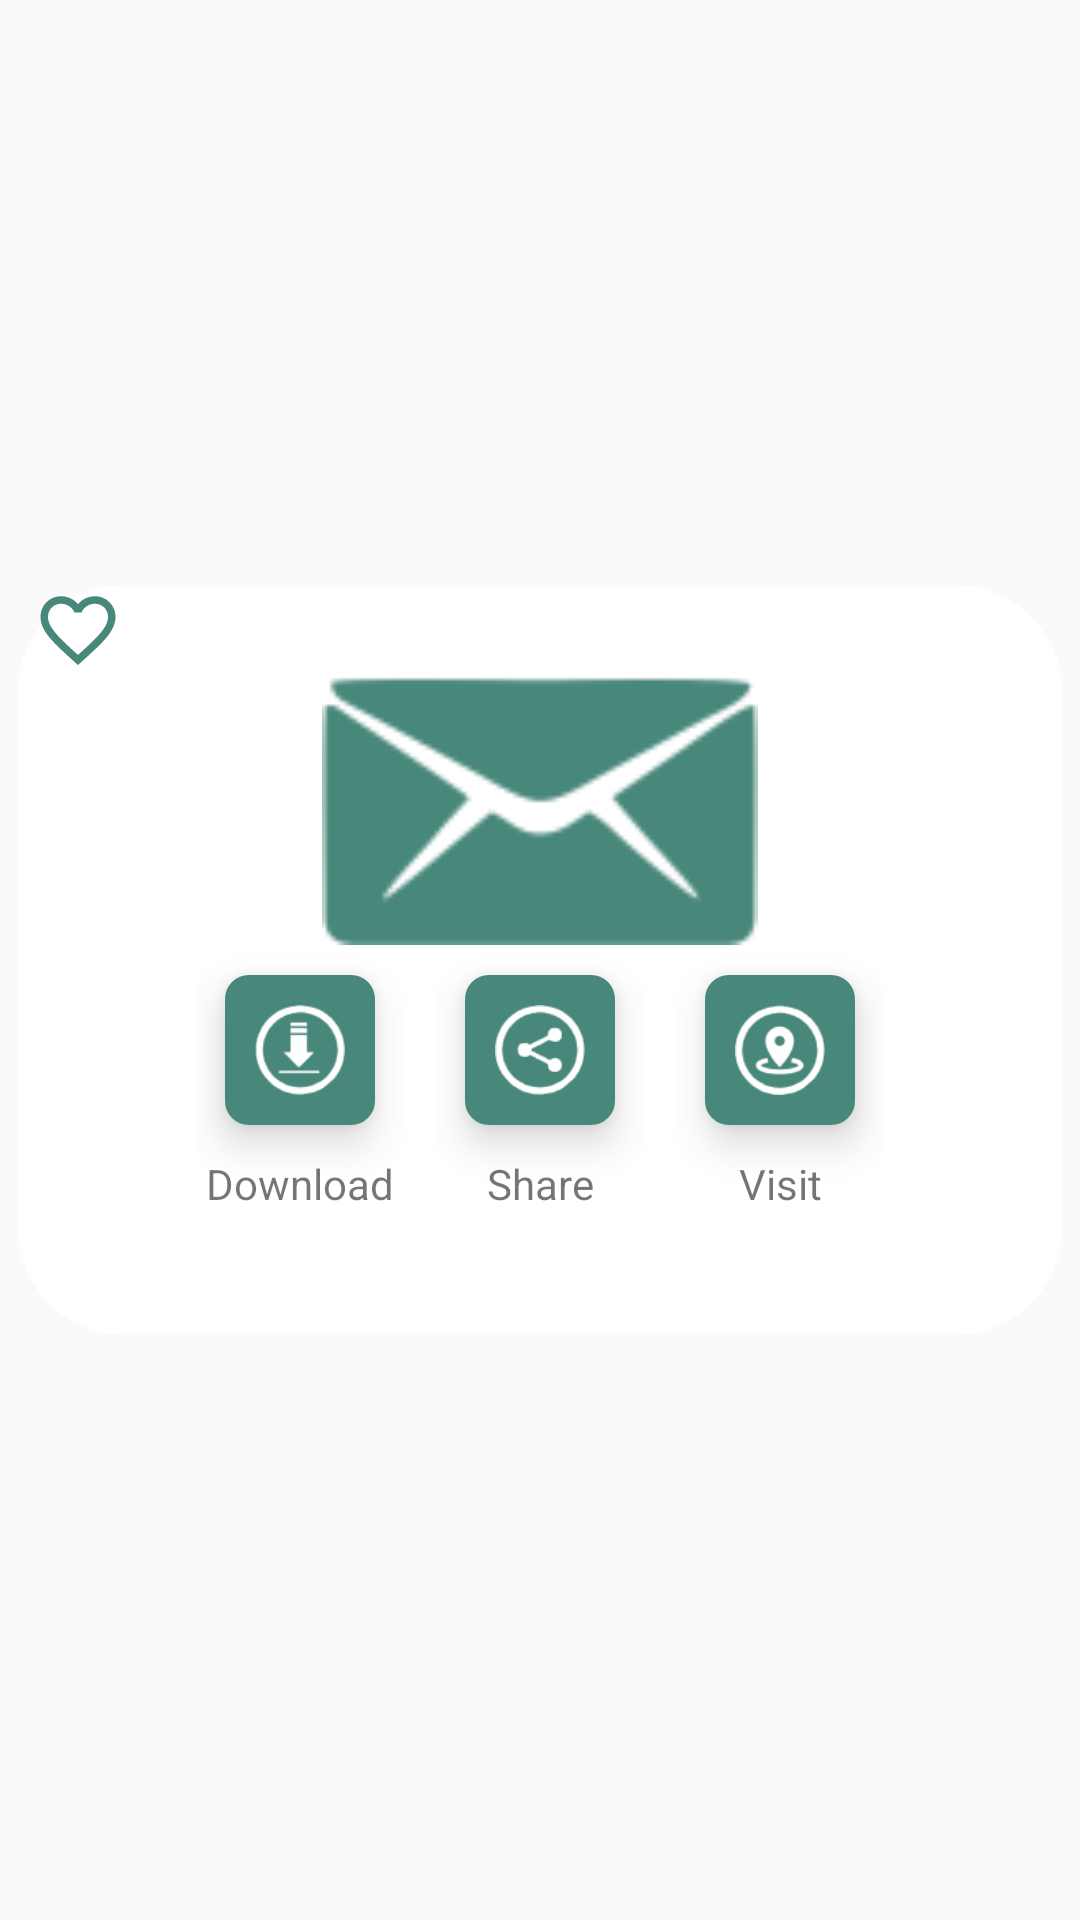

Where icons sit on this 1080 × 1920 app screen, as (x1, y1, x2, y2):
unfavorite: (40, 596, 116, 665)
